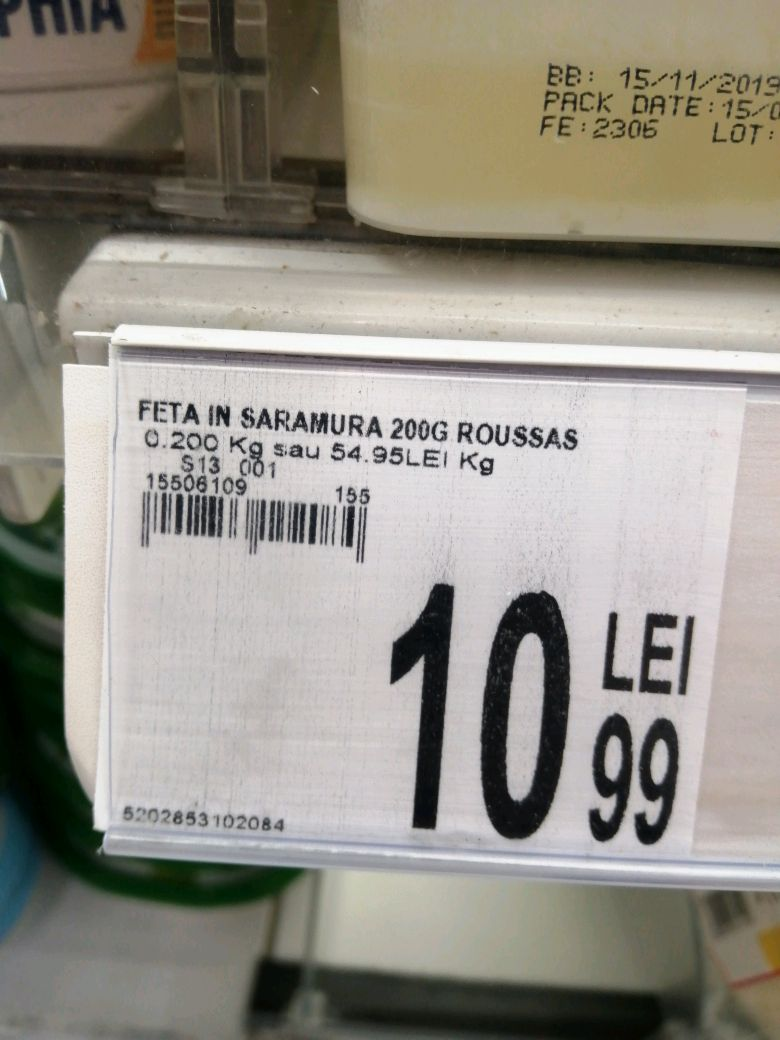price_bani: (584, 711, 687, 854)
price_lei: (373, 575, 580, 851)
price_tag: (91, 331, 754, 902)
product_id: (118, 798, 292, 846)
product_name: (127, 395, 585, 472)
